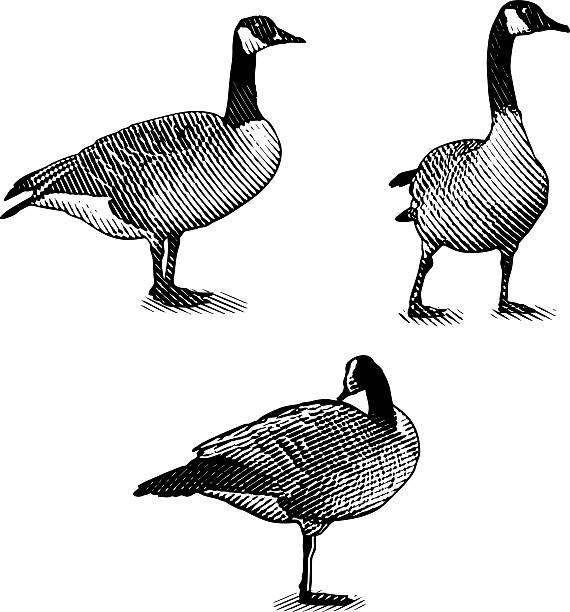goose: (1, 11, 309, 317), (128, 353, 422, 610), (386, 1, 570, 328)
